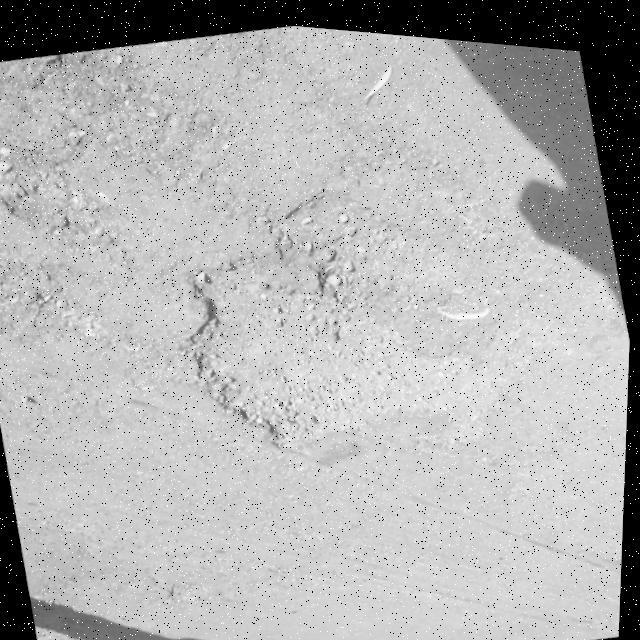pothole: (156, 142, 524, 502), (0, 43, 119, 247)
